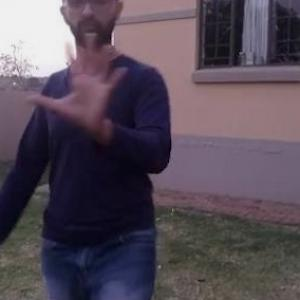follow_hand: (24, 27, 130, 129)
